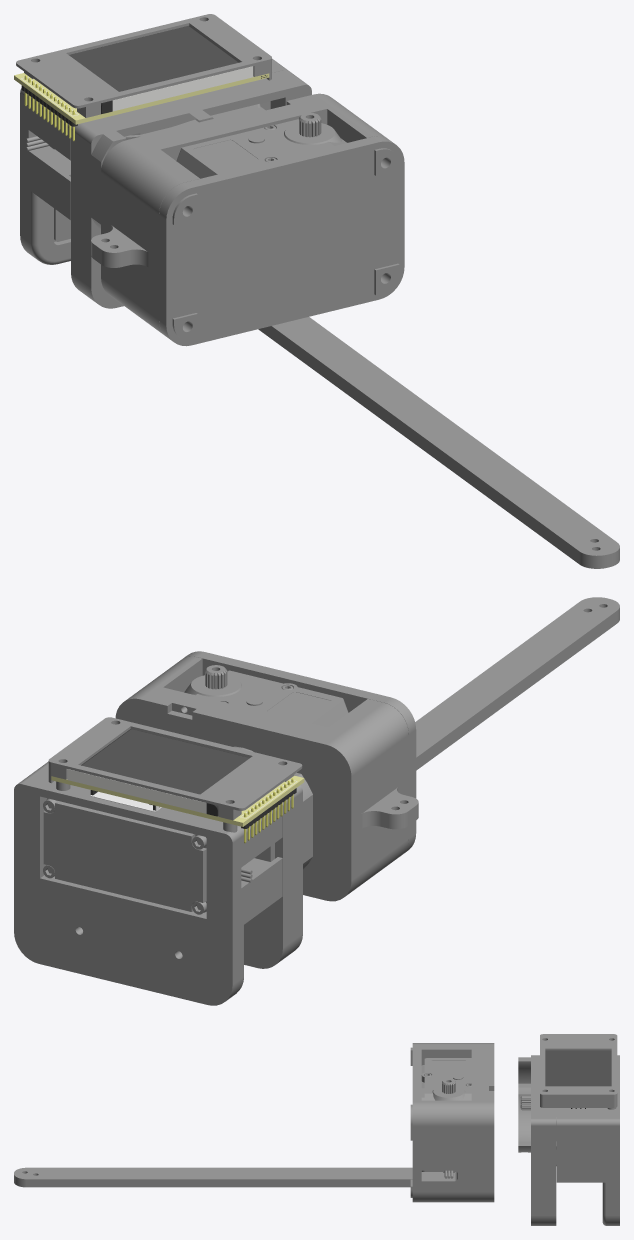
The model's file is Stabilized Arm Table Mount.fbx.
3 views of the same model, one above another, from view 1: azimuth 30°, elevation 25°; view 2: azimuth 150°, elevation 25°; view 3: azimuth 270°, elevation 25° (orthographic). The views are drawn at different scales.
Parts seen in each view (by area): view 1: Body1 (×11), Body7; view 2: Body1 (×11), Body7; view 3: Body1 (×7), Body7.
Part boxes in pixels (bbox=[...]): Body1 (×11): bbox=[14, 14, 619, 568]; Body7: bbox=[69, 26, 238, 91]; Body1 (×11): bbox=[14, 597, 619, 1005]; Body7: bbox=[82, 729, 249, 794]; Body1 (×7): bbox=[14, 1034, 619, 1225]; Body7: bbox=[545, 1050, 611, 1086].
Bounding box in the file's own units: 109 × 79.18 × 334.
